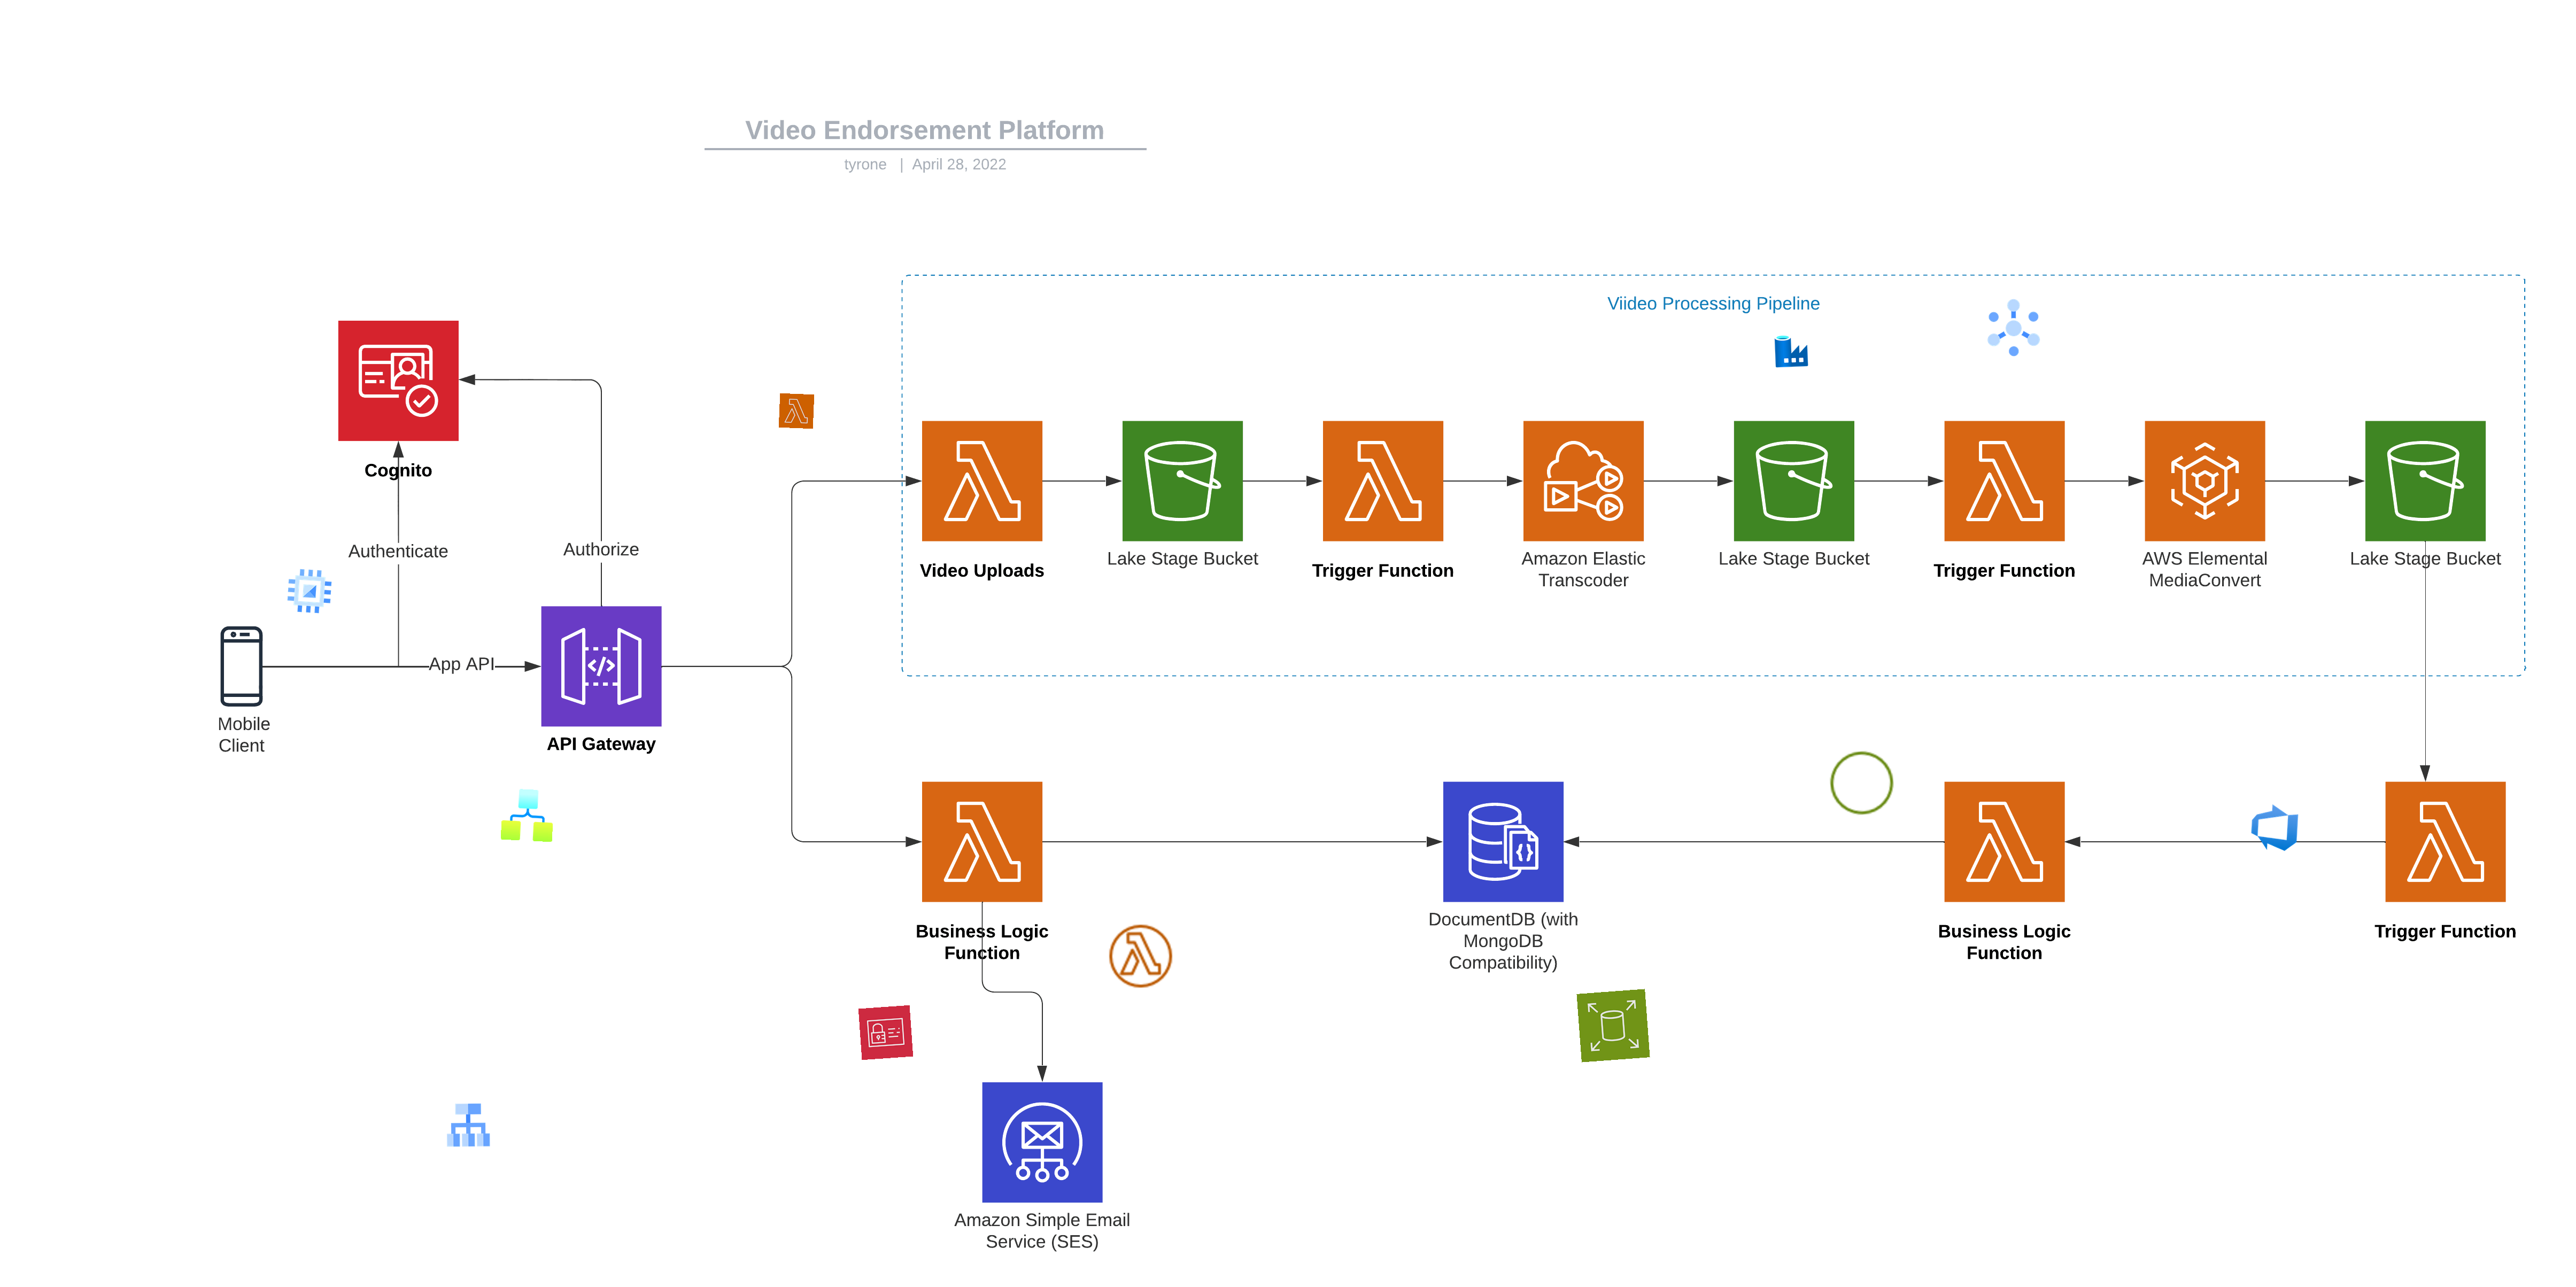aws_amazon_elastic_block_store: (1577, 988, 1649, 1062)
aws_identity_and_access_management: (858, 1005, 913, 1060)
aws_lambda: (779, 392, 815, 428)
aws_lambda_lambda_function: (1106, 921, 1176, 992)
aws_simple_storage_service_object: (1825, 745, 1899, 821)
azure_data_factories: (1773, 333, 1809, 369)
azure_devops: (2247, 799, 2302, 855)
azure_logic_apps: (501, 788, 555, 842)
gcp_cloud_load_balancing: (442, 1098, 495, 1151)
gcp_compute_engine: (283, 563, 337, 619)
gcp_pubsub: (1980, 292, 2049, 363)
